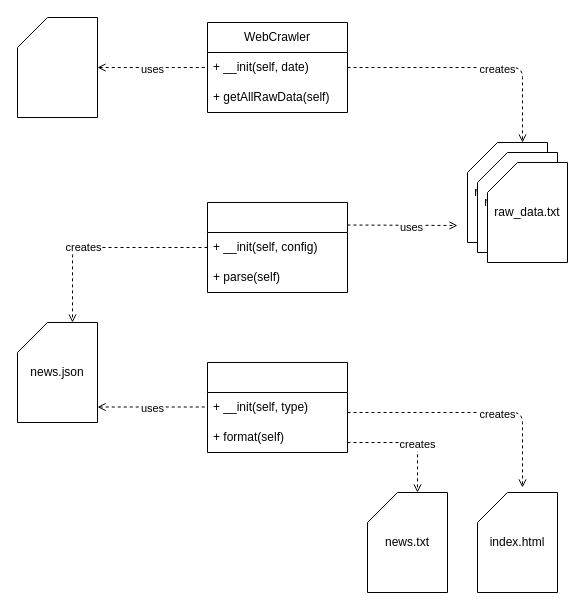
The diagram is 585 pixels wide and 610 high, and some of its shapes have lost their labels. The shapes that lost their labels are listed below. From the top down, each one's box as (x1, y1, x2, y2) in pixels, then its label:
(16, 16, 98, 118): sources.json
(206, 202, 348, 292): NewsParser
(206, 362, 348, 452): NewsFormatter
